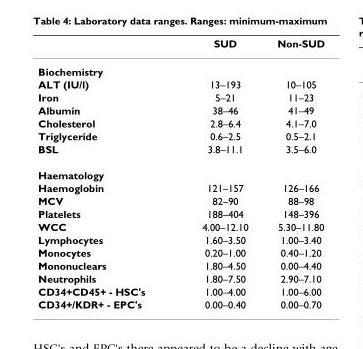table: (37, 36, 324, 309)
table column: (37, 36, 172, 309), (172, 36, 262, 309), (262, 36, 324, 309)
table column header: (37, 36, 324, 56)
table projected row header: (37, 56, 324, 77), (37, 161, 324, 180)
table row: (37, 56, 324, 77), (37, 36, 324, 56), (37, 142, 324, 161), (37, 161, 324, 180), (37, 77, 324, 90), (37, 90, 324, 103), (37, 103, 324, 116), (37, 116, 324, 129), (37, 129, 324, 142), (37, 180, 324, 193), (37, 193, 324, 206), (37, 206, 324, 219), (37, 219, 324, 232), (37, 232, 324, 245), (37, 245, 324, 258), (37, 258, 324, 271), (37, 271, 324, 284), (37, 284, 324, 297), (37, 297, 324, 309)
